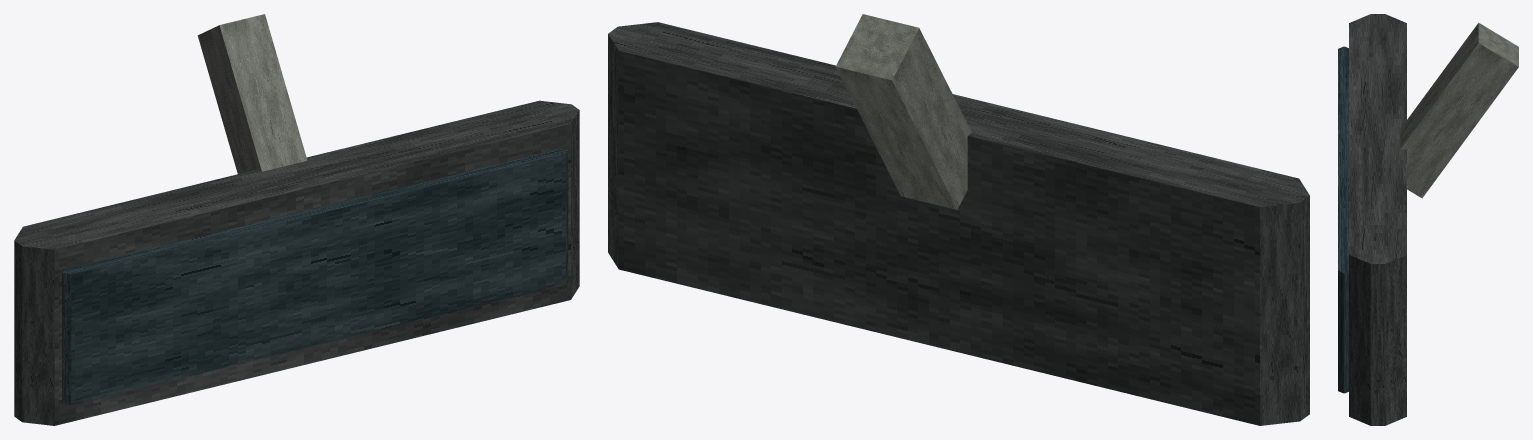
Rendered from rearview_mirror.glb.
3 renders of one model, left to right at view 1: azimuth 30°, elevation 25°; view 2: azimuth 150°, elevation 25°; view 3: azimuth 270°, elevation 25°, orthographic. The views are drawn at different scales.
Visible parts, largest first — view 1: Body; view 2: Body; view 3: Body.
Part boxes in pixels (bbox=[...]): Body: bbox=[14, 14, 579, 425]; Body: bbox=[608, 14, 1309, 425]; Body: bbox=[1338, 14, 1518, 425].
Size of the model in its own units: 0.245 by 0.1225 by 0.0748.
Materials: 1 (1 with a texture image).
